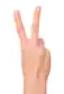front: (12, 3, 53, 83)
